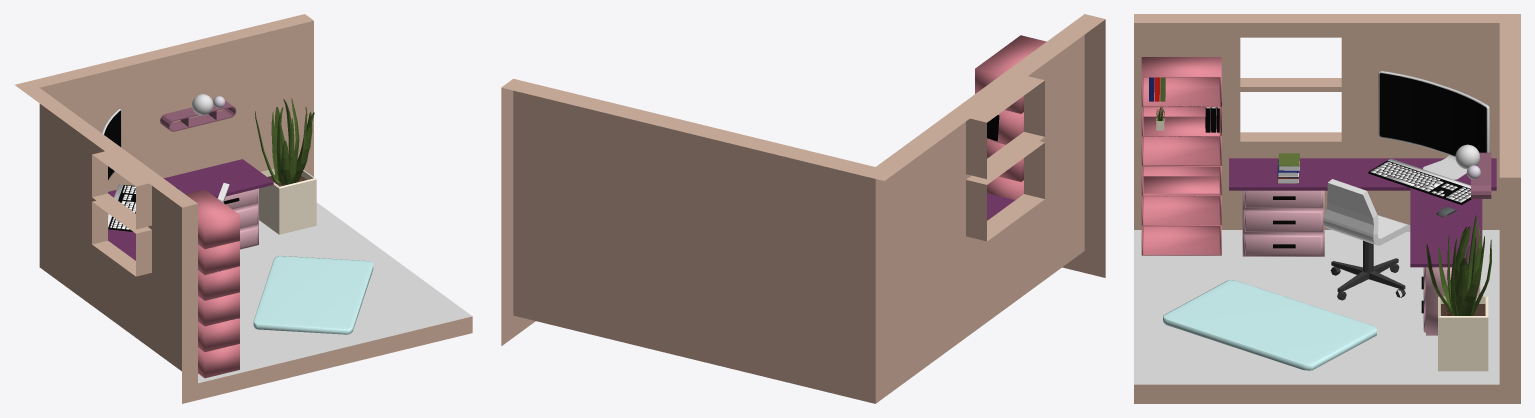
File: Office_Scene.gltf
3 renders of one model, left to right at view 1: azimuth 30°, elevation 25°; view 2: azimuth 150°, elevation 25°; view 3: azimuth 270°, elevation 25°, orthographic. The views are drawn at different scales.
Parts seen in each view (by area): view 1: EntireRoom, Carpet, BookShelf, BigTree, Desk, WallShelf, Keyboard, Screen; view 2: EntireRoom, BookShelf; view 3: EntireRoom, Desk, BookShelf, Carpet, Screen, BigTree, Chair, Keyboard, WallShelf, ComputerStand, Sphere.001, TopBookonDesk.
Part boxes in pixels (bbox=[...]): EntireRoom: bbox=[15, 14, 472, 403]; Carpet: bbox=[253, 256, 373, 334]; BookShelf: bbox=[185, 189, 239, 378]; BigTree: bbox=[255, 98, 316, 234]; Desk: bbox=[108, 159, 273, 260]; WallShelf: bbox=[160, 100, 236, 131]; Keyboard: bbox=[108, 184, 135, 231]; Screen: bbox=[102, 109, 121, 180]; EntireRoom: bbox=[501, 14, 1105, 403]; BookShelf: bbox=[975, 35, 1046, 199]; EntireRoom: bbox=[1134, 14, 1520, 403]; Desk: bbox=[1229, 158, 1496, 335]; BookShelf: bbox=[1141, 57, 1221, 255]; Carpet: bbox=[1163, 280, 1376, 370]; Screen: bbox=[1378, 70, 1489, 156]; BigTree: bbox=[1426, 215, 1491, 371]; Chair: bbox=[1323, 179, 1410, 300]; Keyboard: bbox=[1368, 158, 1471, 204]; WallShelf: bbox=[1471, 152, 1491, 198]; ComputerStand: bbox=[1423, 155, 1467, 179]; Sphere.001: bbox=[1455, 144, 1479, 169]; TopBookonDesk: bbox=[1278, 153, 1299, 170].
Size of the model in its own units: 8.9 by 5.74 by 8.9.
